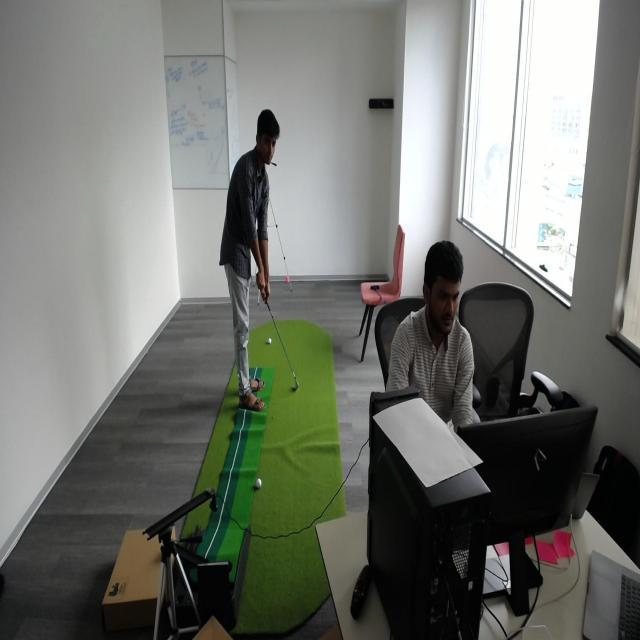ClubHead: (286, 364, 304, 394)
GolfBall: (252, 476, 266, 492), (266, 334, 274, 347)
